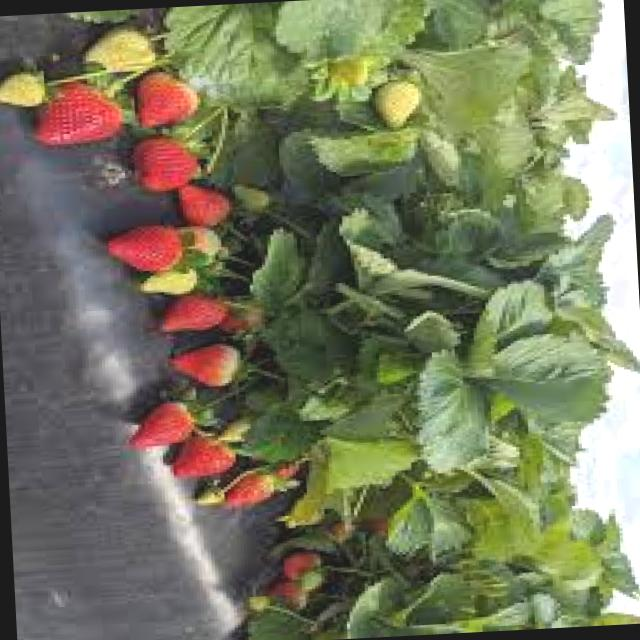strawberry: (28, 84, 125, 148), (124, 398, 194, 467), (103, 221, 193, 274), (168, 339, 248, 392), (134, 140, 201, 195)
